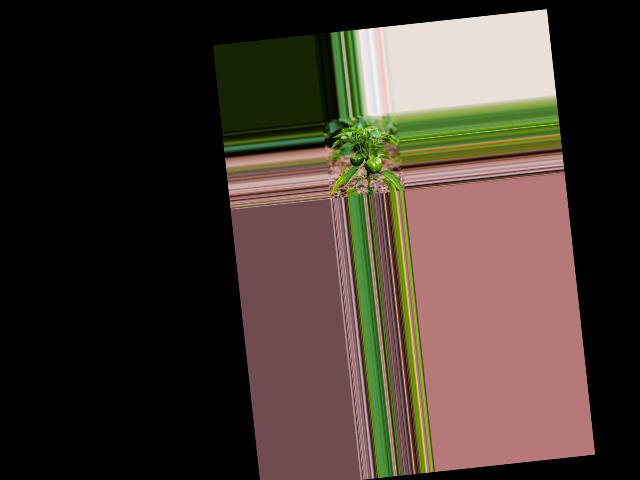bell_pepper: (348, 152, 364, 168)
